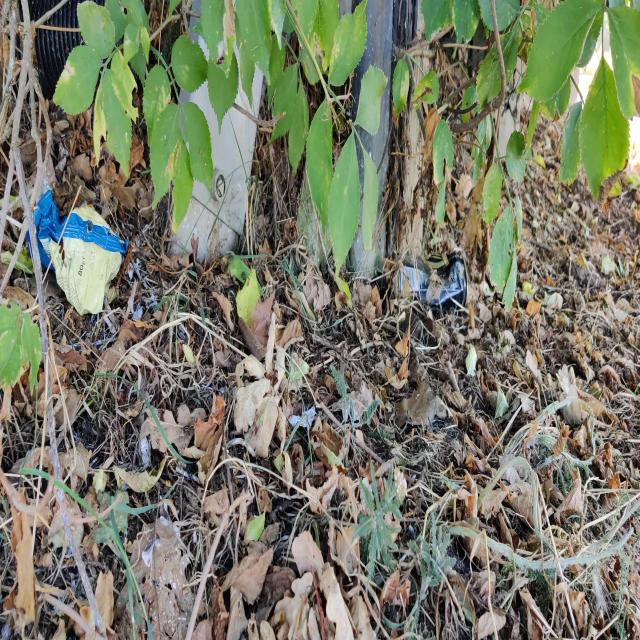litter: (406, 256, 466, 309)
